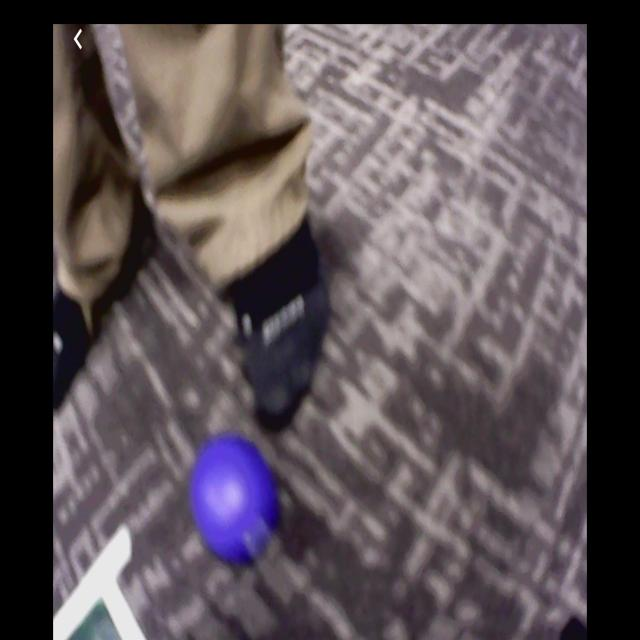ball: (191, 435, 273, 563)
